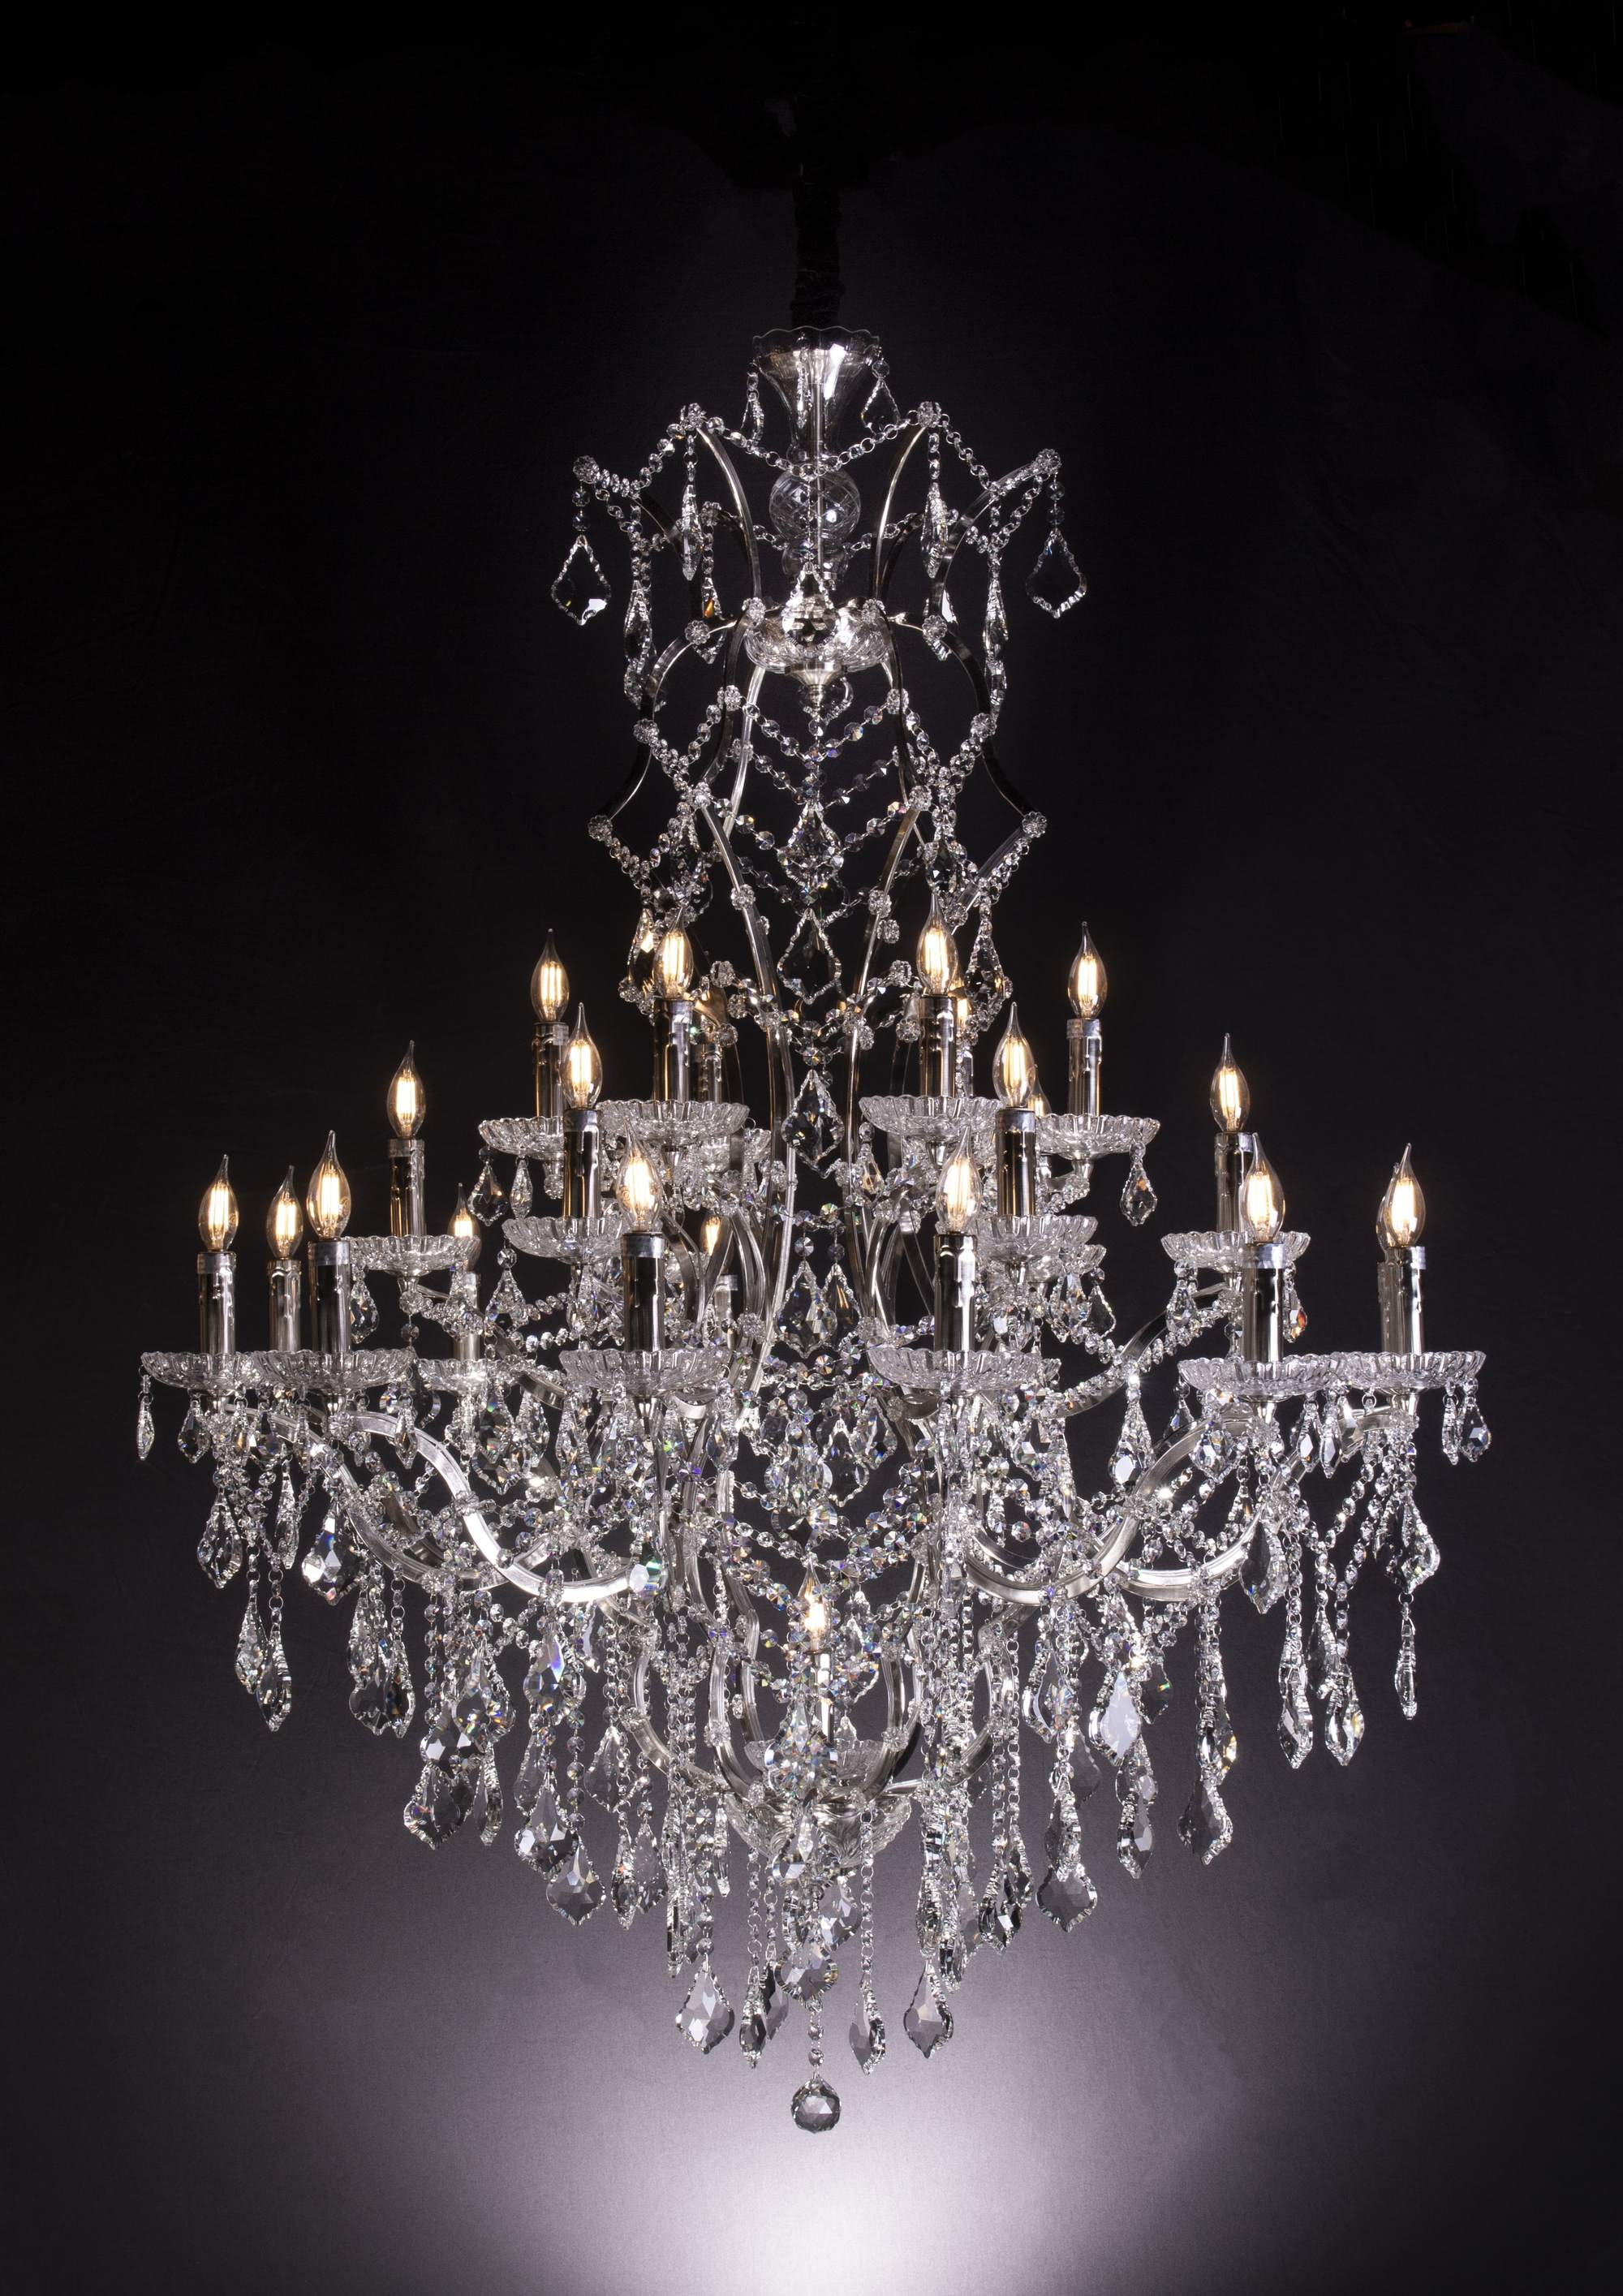chandelier: (112, 170, 1521, 2168)
